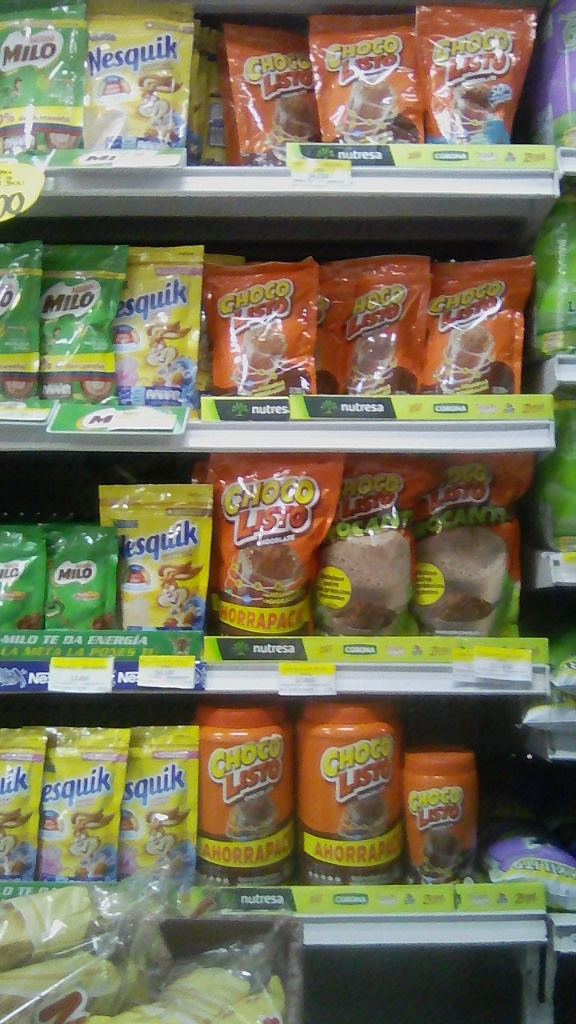COL0170102DYP50000: (416, 454, 529, 637)
COL0170103DYP44000: (205, 449, 340, 638)
COL0170103TRR00100: (198, 698, 292, 888)
COL0170103TRR30000: (400, 738, 479, 881)
COL0170104DYP20000: (416, 0, 541, 147)
COL0170203DYP10000: (36, 526, 122, 634)
COL0170203DYP25000: (37, 244, 130, 408)
COL0170305DYP20000: (120, 723, 199, 882)
COL0170306DYP20000: (81, 1, 194, 150)
